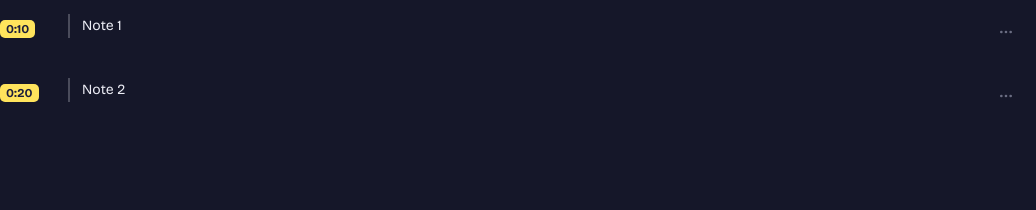
Test: keeps a newer delete confirmation and its focus when a pending note save finishes
The width and height of the screenshot is (1036, 210).
Click the button named "Moment actions" in the row of "Note 1": (1006, 32) [988,14,1024,50]
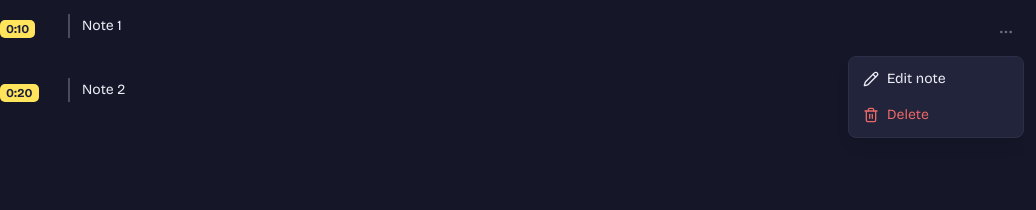
Click the menu item "Edit note": (904, 78) [863,70,946,87]
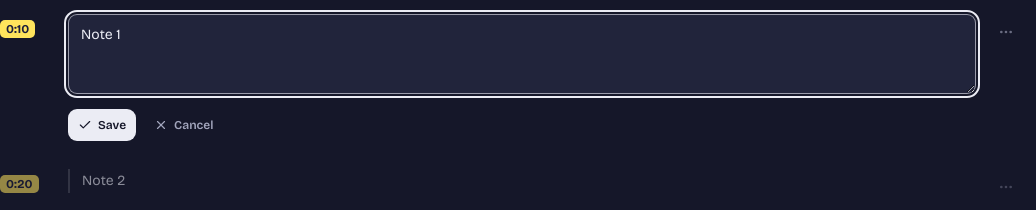
Click the button "Save": (102, 125) [68,109,136,141]
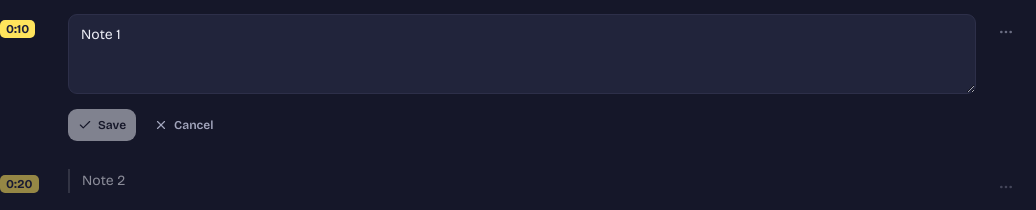
Click the button named "Moment actions" in the row of "0:10": (1006, 32) [988,14,1024,50]
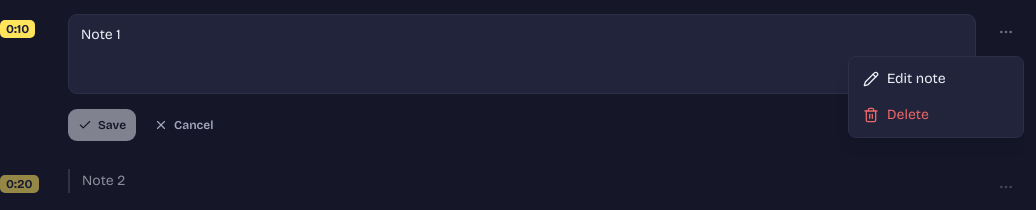
Click the menu item "Delete": (896, 114) [863,106,929,123]
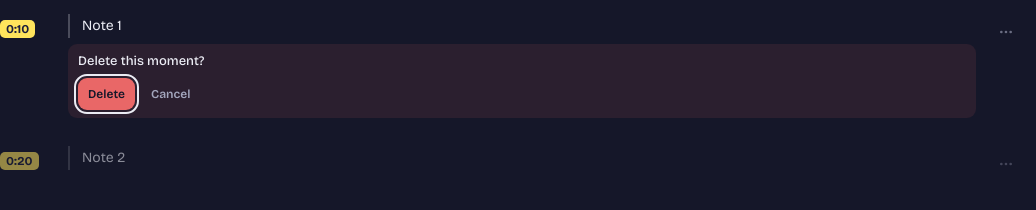
Result: the text "Delete this moment?" is shown at [78,53,204,69]
